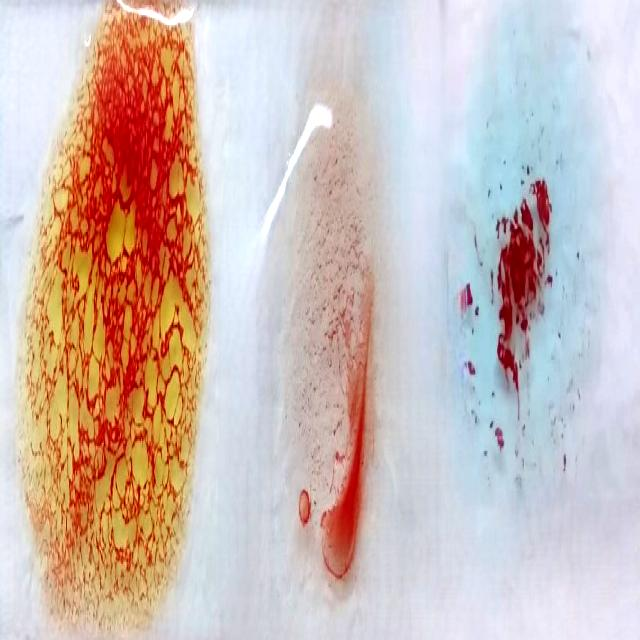A: (456, 29, 584, 500)
B: (46, 6, 191, 640)
D: (274, 23, 384, 612)
